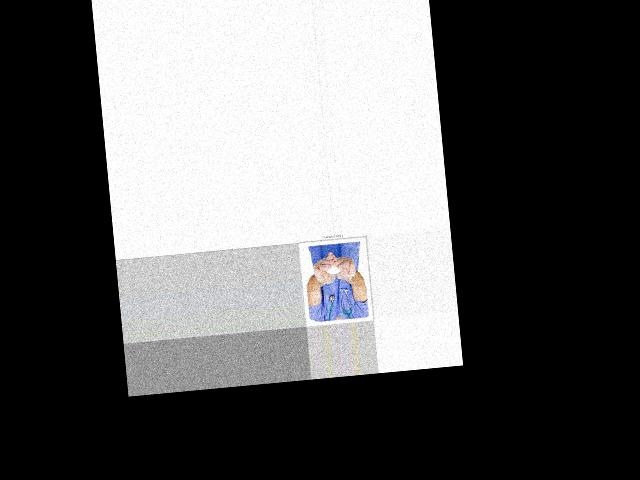egg: (326, 263, 342, 275)
